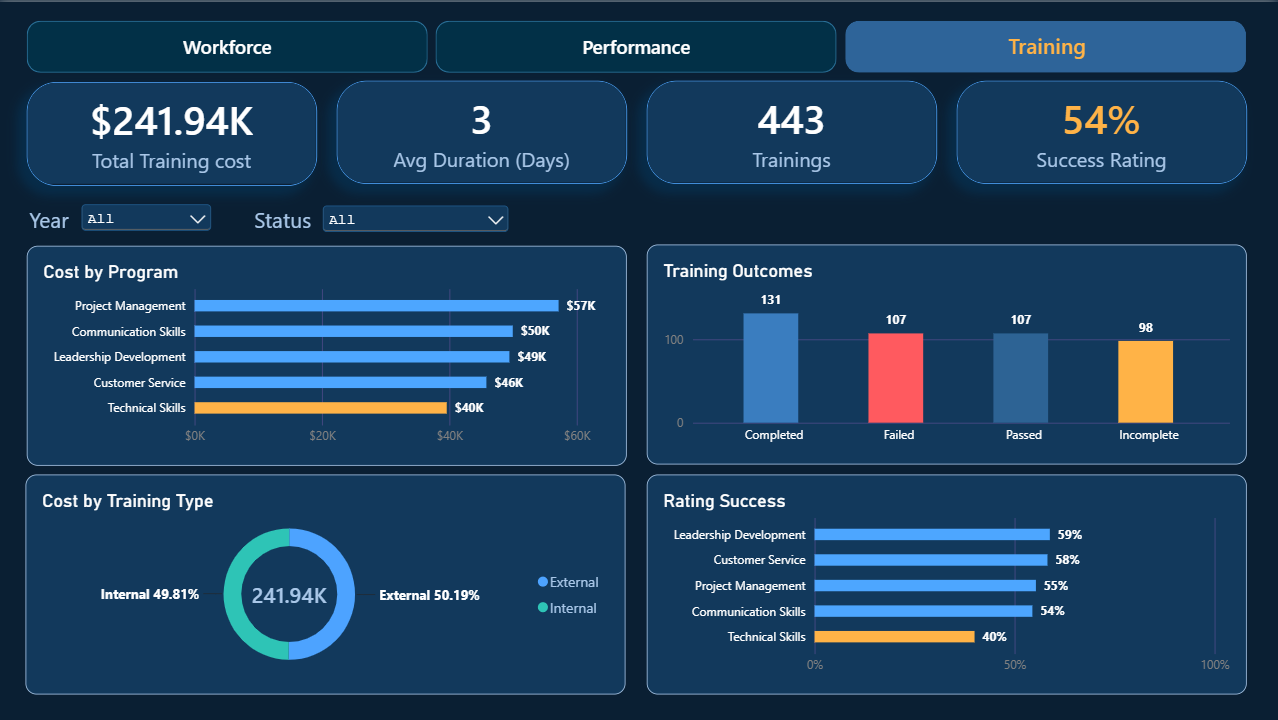

Layout of this report page (visuals, bound fields, positions):
{"tool":"powerbi","page":{"name":"Training","canvas":[1280,720],"ordinal":2},"visuals":[{"type":"pageNavigator","box":[28.6,18.6,1220,52.9],"z":0},{"type":"cardVisual","title":"Total employees","fields":{"Data":["DAX.Total Training cost"]},"box":[28.6,79.5,290,103.8],"z":1000},{"type":"cardVisual","title":"Total employees","fields":{"Data":["DAX.Avg Duration(Days)"]},"box":[338.3,79.2,290,103],"z":2000},{"type":"cardVisual","title":"Total employees","fields":{"Data":["DAX.Trainings"]},"box":[648.2,79.1,290,103],"z":3000},{"type":"cardVisual","title":"Total employees","fields":{"Data":["DAX.Rating Success"]},"box":[958.3,79.2,290,103],"z":4000},{"type":"barChart","title":"Cost by Program","fields":{"Category":["public training_programs.program_name"],"Y":["DAX.Total Training cost"]},"box":[28.3,243.3,600,220],"z":5000},{"type":"slicer","fields":{"Values":["Date.Year"]},"box":[78.8,198,140,38.8],"z":6000},{"type":"slicer","fields":{"Values":["public employees.employee_status"]},"box":[320,198.3,196.7,46.7],"z":7000},{"type":"textbox","box":[31.7,202,62.1,32.5],"z":8000},{"type":"textbox","box":[256.2,202,125.8,37.1],"z":9000},{"type":"clusteredColumnChart","title":"Training Outcomes","fields":{"Category":["public employee_training.training_outcome"],"Y":["DAX.Trainings"]},"box":[648.6,242.9,600,220],"z":10000},{"type":"barChart","title":"Rating Success","fields":{"Category":["public training_programs.program_name"],"Y":["DAX.Rating Success"]},"box":[648.6,472.9,600,220],"z":11000},{"type":"donutChart","title":"Cost by Training Type","fields":{"Category":["public employee_training.training_type"],"Y":["Sum(public employee_training.training_cost)"]},"box":[28,473,600,220],"z":12000}]}

Visuals, with their boxes in screenshot pixels (x1, y1, x2, y2), scaled from the page's 1280x720 canvas onto the 1278x720 screenshot:
pageNavigator: [29,19,1247,72]
"Total employees" cardVisual: [29,80,318,183]
"Total employees" cardVisual: [338,79,627,182]
"Total employees" cardVisual: [647,79,937,182]
"Total employees" cardVisual: [957,79,1246,182]
"Cost by Program" barChart: [28,243,627,463]
slicer - Date.Year: [79,198,218,237]
slicer - public employees.employee_status: [320,198,516,245]
textbox: [32,202,94,234]
textbox: [256,202,381,239]
"Training Outcomes" clusteredColumnChart: [648,243,1247,463]
"Rating Success" barChart: [648,473,1247,693]
"Cost by Training Type" donutChart: [28,473,627,693]
